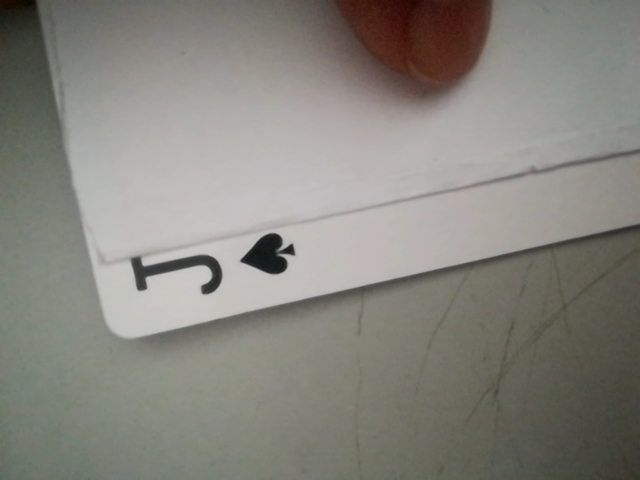ht j: (110, 226, 313, 314)
